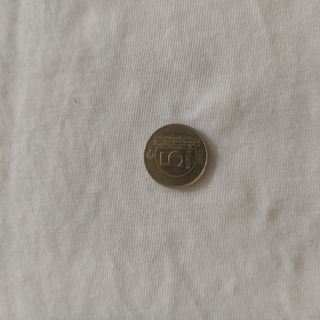5KURUS: (142, 121, 210, 190)
